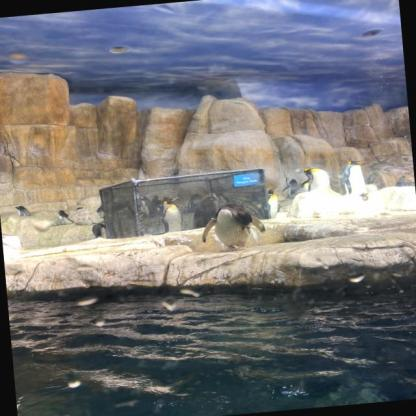penguin: (208, 203, 265, 252), (336, 156, 370, 200), (156, 194, 191, 236), (304, 164, 334, 194), (282, 175, 304, 201), (1, 228, 26, 250), (264, 186, 281, 218), (91, 222, 111, 241), (15, 202, 32, 219), (395, 172, 410, 190), (60, 209, 70, 221)
